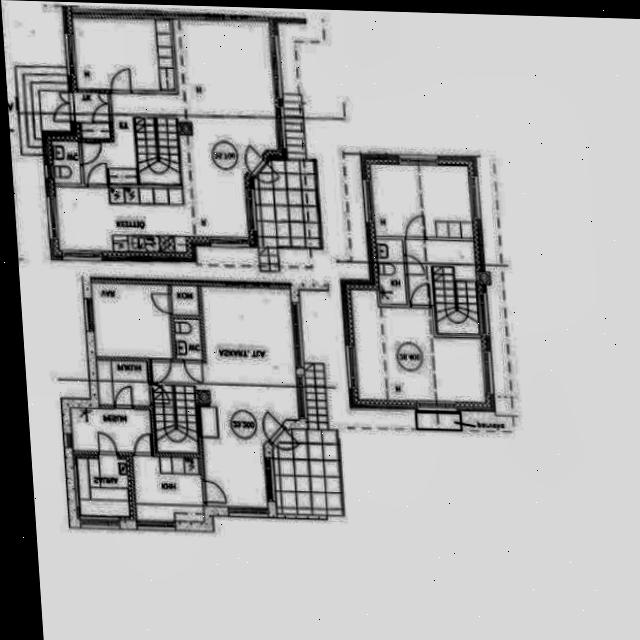room: (70, 18, 176, 91), (368, 165, 474, 237), (406, 235, 478, 338), (88, 283, 174, 359), (130, 456, 205, 522), (76, 455, 129, 520), (94, 361, 150, 406), (376, 238, 406, 306), (52, 140, 80, 185), (174, 318, 201, 361), (171, 283, 198, 316)
